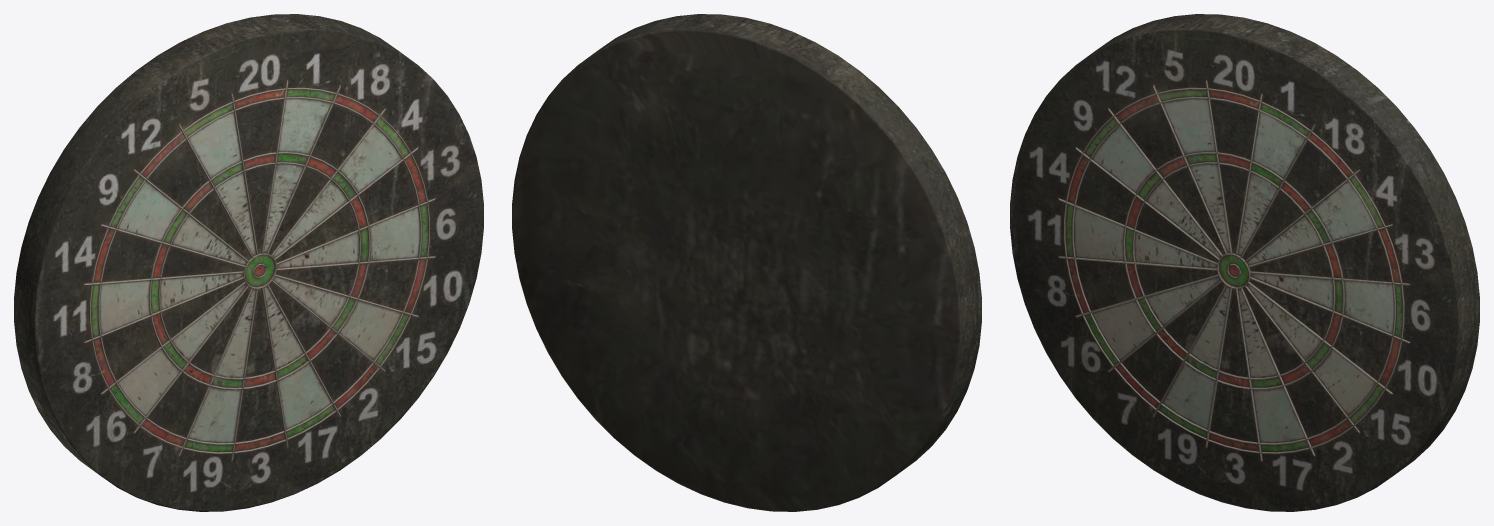
Rendered from dartboard.glb.
3 views of the same model, side by side, from view 1: azimuth 30°, elevation 25°; view 2: azimuth 150°, elevation 25°; view 3: azimuth 330°, elevation 25° (orthographic).
Visible parts, largest first — view 1: dartboard; view 2: dartboard; view 3: dartboard.
Part boxes in pixels (x1,y1,x2,y2): dartboard: (14, 14, 483, 511); dartboard: (512, 14, 981, 511); dartboard: (1010, 14, 1479, 511).
Bounding box in the file's own units: 0.4507 × 0.4507 × 0.0398.
Materials: 1 (1 with a texture image).
